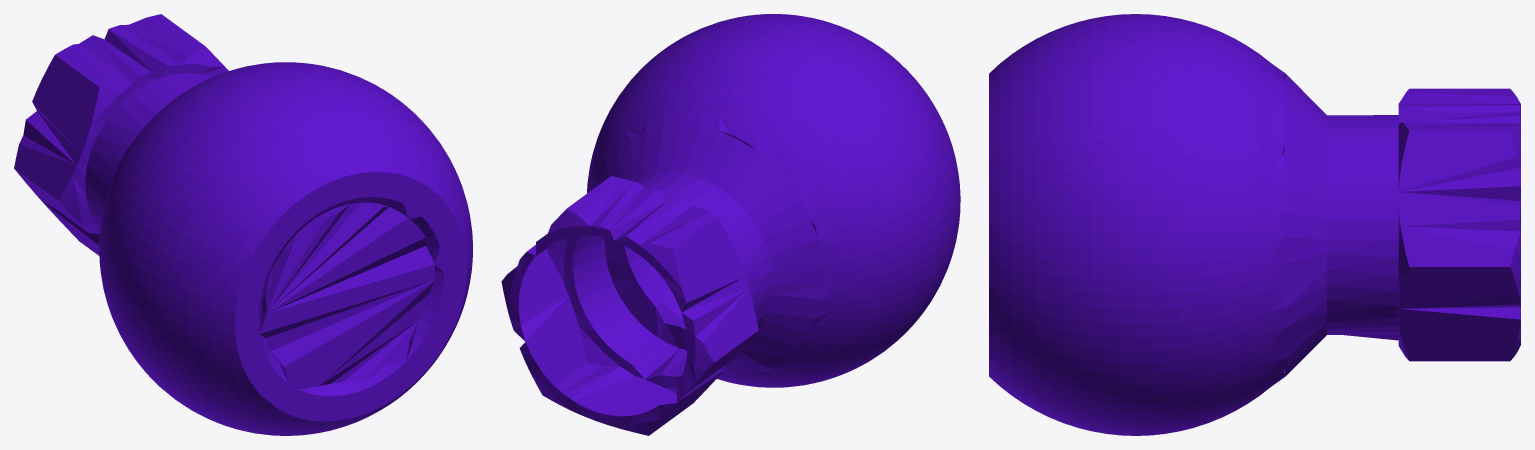
The model's file is Carriage2_lh.OBJ.
3 views of the same model, side by side, from view 1: azimuth 30°, elevation 25°; view 2: azimuth 150°, elevation 25°; view 3: azimuth 270°, elevation 25° (orthographic). The views are drawn at different scales.
Visible parts, largest first — view 1: /ambf/env/Carriage2_lh_Carriage2_lh; view 2: /ambf/env/Carriage2_lh_Carriage2_lh; view 3: /ambf/env/Carriage2_lh_Carriage2_lh.
Boxes of the visible parts, x1,y1,x2,y2 form: /ambf/env/Carriage2_lh_Carriage2_lh: (14,14,472,435); /ambf/env/Carriage2_lh_Carriage2_lh: (501,14,960,435); /ambf/env/Carriage2_lh_Carriage2_lh: (989,14,1520,435).
Bounding box in the file's own units: 0.0183 × 0.0183 × 0.023.
